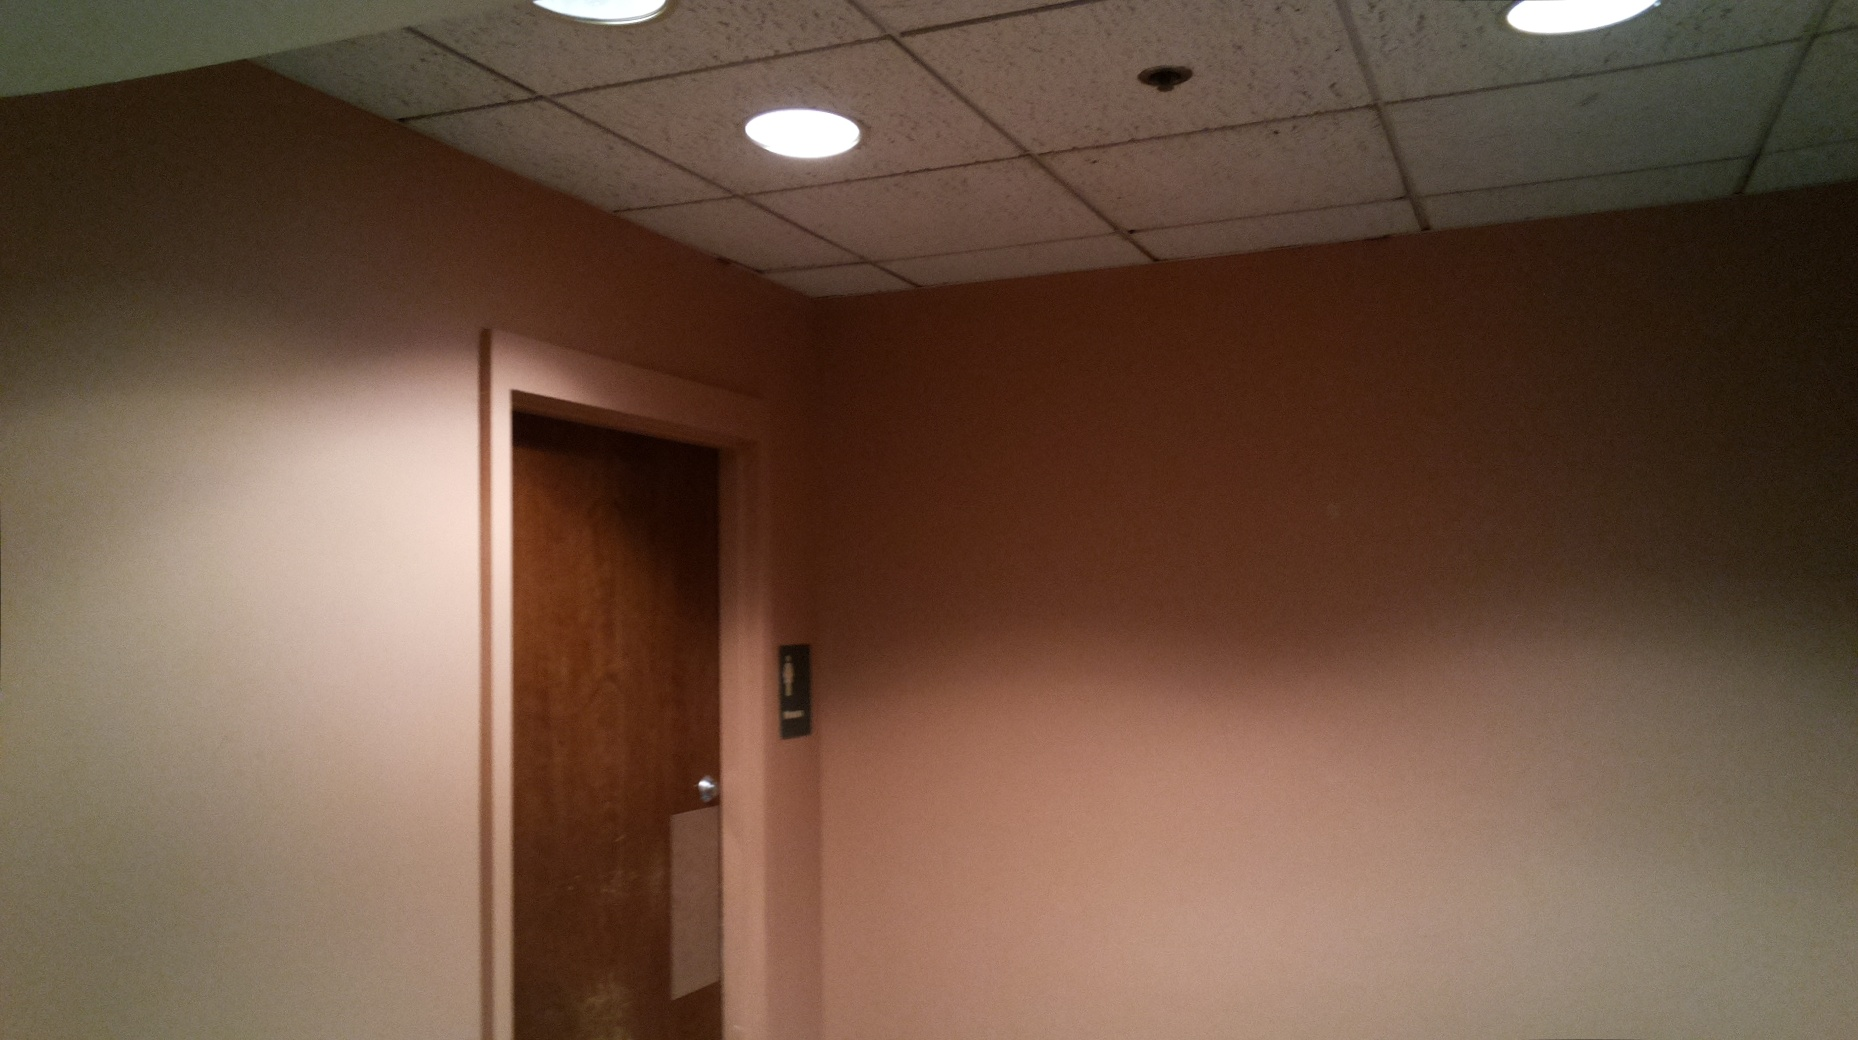bathroom sign: (773, 638, 817, 744)
